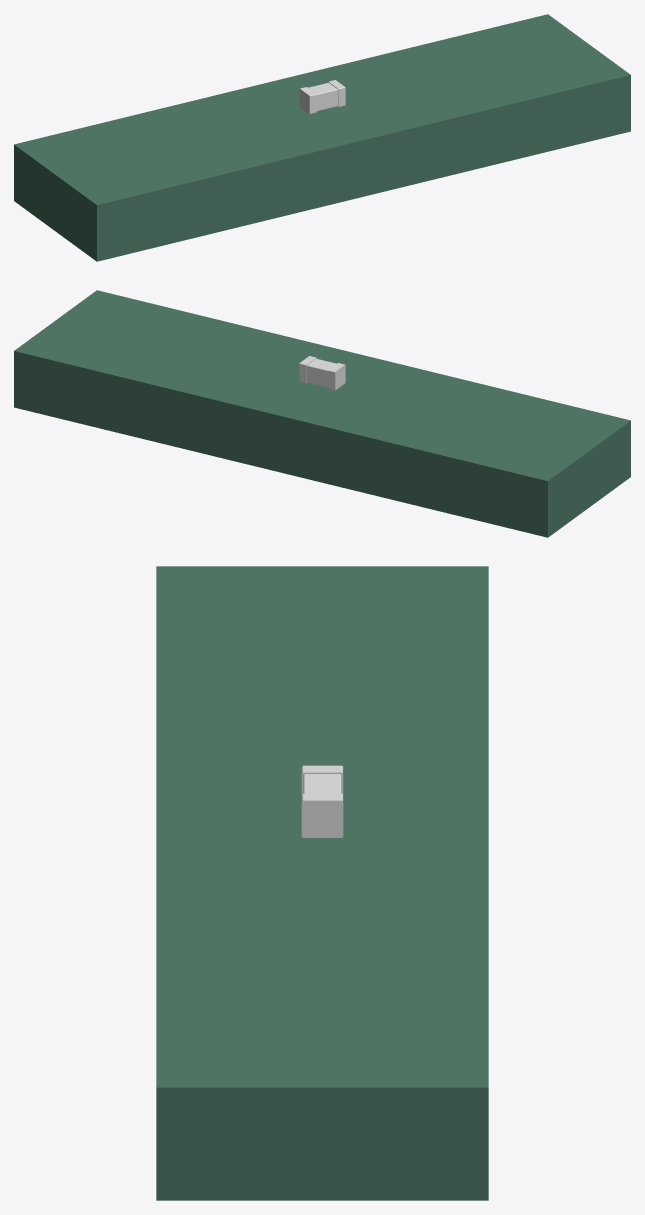
File: Capacitor_SMD_C_0402_1005Metric.glb
The picture shows the model from 3 angles, top to bottom: view 1: azimuth 30°, elevation 25°; view 2: azimuth 150°, elevation 25°; view 3: azimuth 270°, elevation 25°; orthographic projection. The views are drawn at different scales.
Parts seen in each view (by area): view 1: =>[0:1:1:3], REF**; view 2: =>[0:1:1:3], REF**; view 3: =>[0:1:1:3], REF**.
Part boxes in pixels (bbox=[...]): =>[0:1:1:3]: bbox=[14, 14, 630, 261]; REF**: bbox=[299, 80, 345, 114]; =>[0:1:1:3]: bbox=[14, 290, 630, 537]; REF**: bbox=[299, 356, 345, 390]; =>[0:1:1:3]: bbox=[156, 566, 488, 1200]; REF**: bbox=[301, 765, 343, 837].
Bounding box in the file's own units: 0.0149 × 0.0021 × 0.00402.
